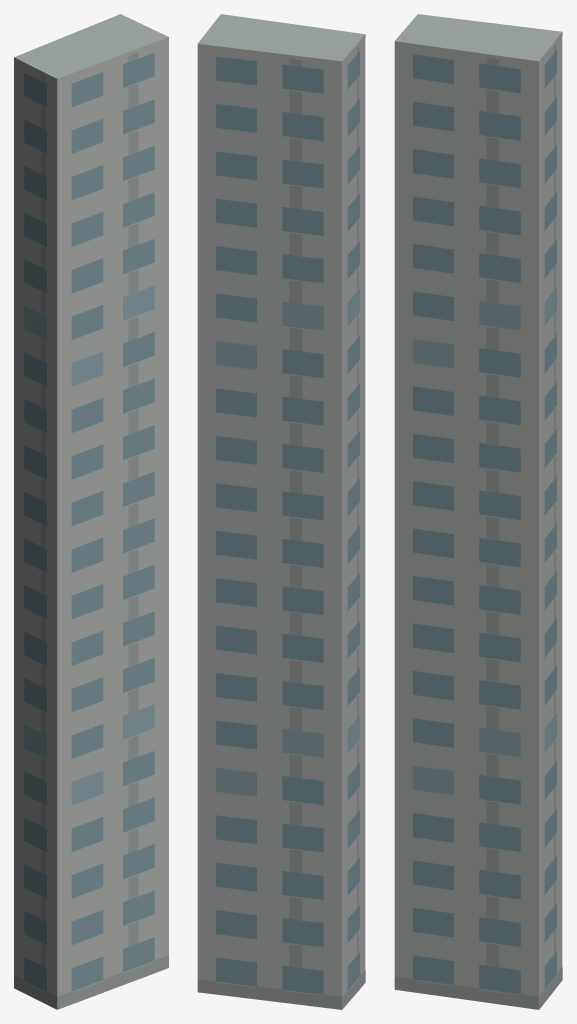
The model's file is survey-upis-32547738.glb.
The picture shows the model from 3 angles, left to right: view 1: azimuth 30°, elevation 25°; view 2: azimuth 150°, elevation 25°; view 3: azimuth 330°, elevation 25°; orthographic projection.
Parts seen in each view (by area): view 1: survey-upis-32547738.tmp; view 2: survey-upis-32547738.tmp; view 3: survey-upis-32547738.tmp.
Boxes of the visible parts, bbox=[...] form: survey-upis-32547738.tmp: bbox=[14, 14, 168, 1009]; survey-upis-32547738.tmp: bbox=[197, 14, 365, 1009]; survey-upis-32547738.tmp: bbox=[394, 14, 562, 1009].
Bounding box in the file's own units: 9.4 × 61 × 6.03.
